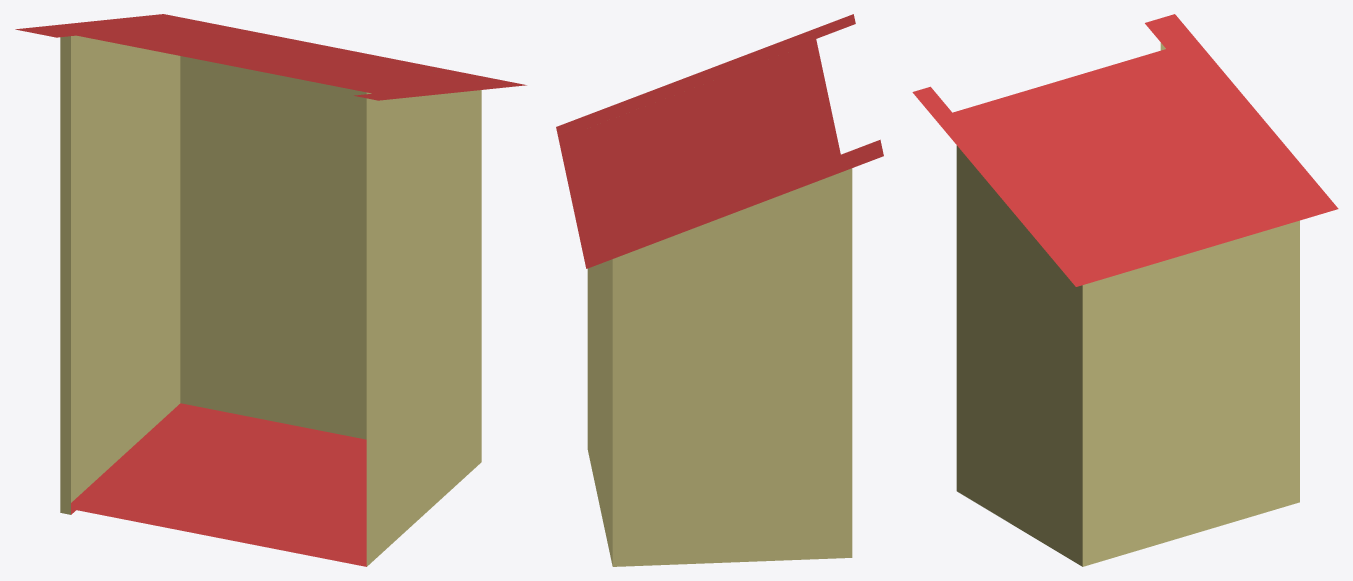
The picture shows the model from 3 angles, left to right: view 1: azimuth 30°, elevation 25°; view 2: azimuth 150°, elevation 25°; view 3: azimuth 270°, elevation 25°; orthographic projection. The views are drawn at different scales.
Bounding box in the file's own units: 7.52 × 7.68 × 7.81.
